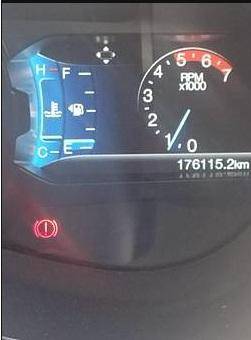-: (224, 166, 226, 170)
1: (177, 158, 183, 170), (201, 158, 206, 170), (208, 159, 213, 170)
2: (226, 158, 234, 170)
5: (215, 158, 223, 170)
6: (192, 159, 200, 170)
7: (183, 159, 192, 170)
X: (241, 161, 249, 170), (234, 159, 240, 170)
odometer: (175, 157, 250, 171)
